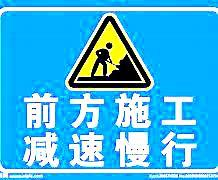sign: (1, 4, 213, 176)
